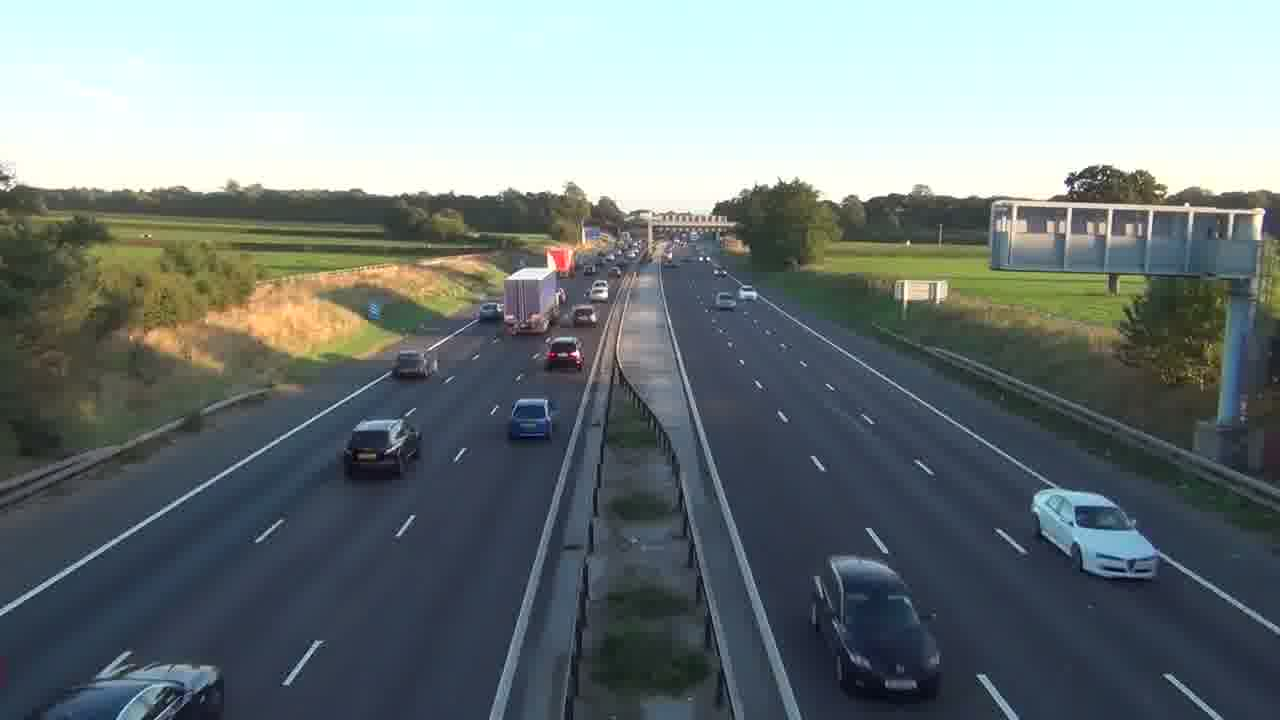car: (30, 654, 226, 718), (1031, 487, 1159, 581), (509, 397, 555, 440), (544, 336, 584, 371), (572, 304, 598, 326)
truck: (809, 554, 943, 699), (341, 415, 422, 479), (503, 267, 563, 335), (393, 349, 436, 379)
